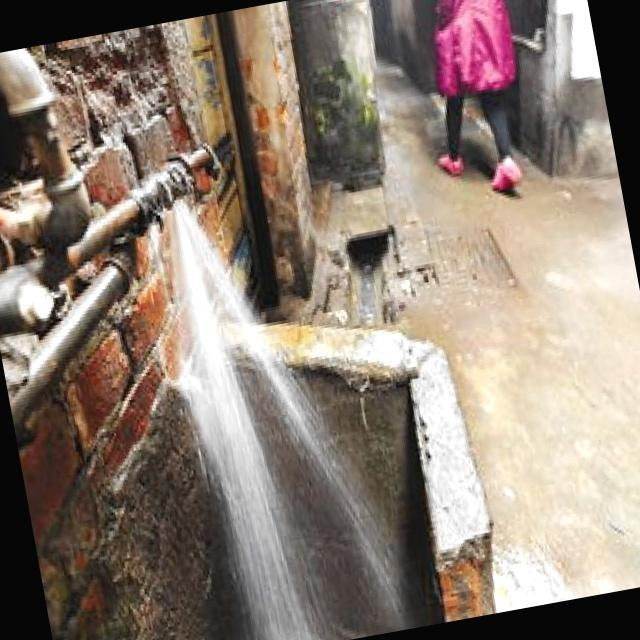pipe burst: (159, 187, 412, 640)
